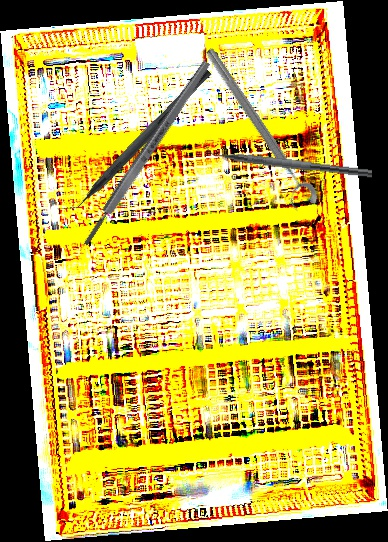Chopper: (54, 57, 213, 225), (200, 140, 374, 178)
Fixation Ring: (191, 43, 323, 218)
Scalpel Handle: (79, 59, 214, 248)
